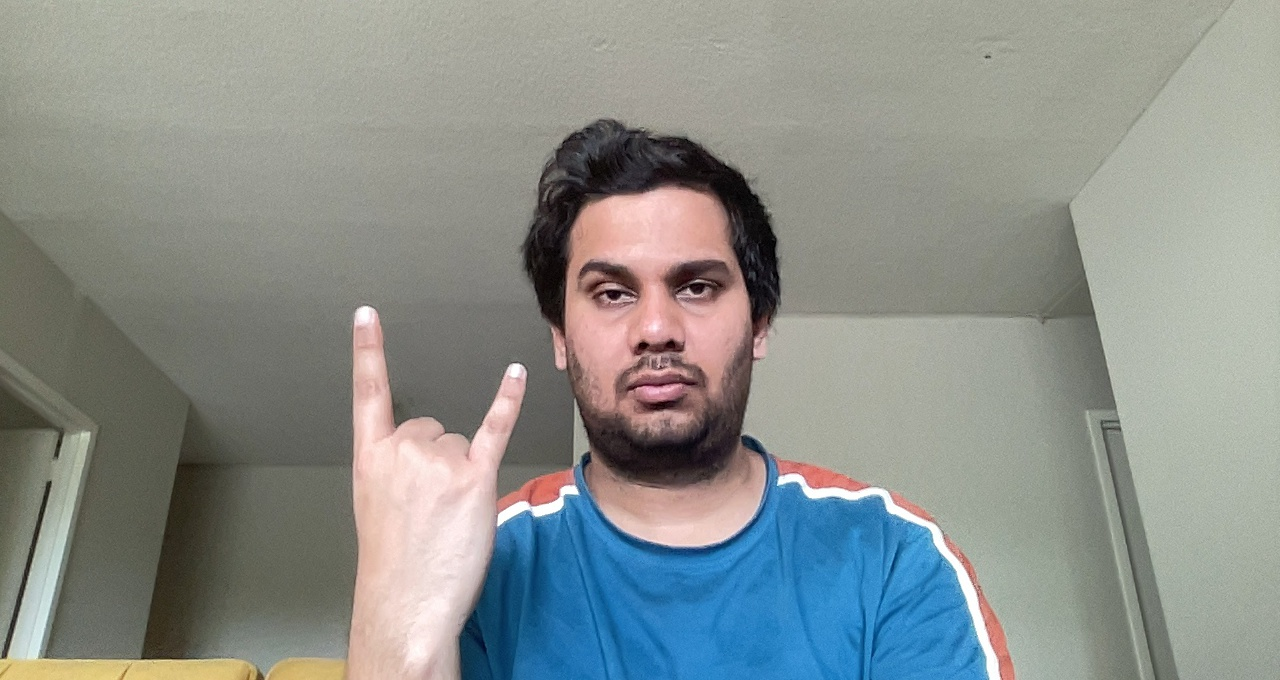rockon sign: (329, 287, 538, 631)
